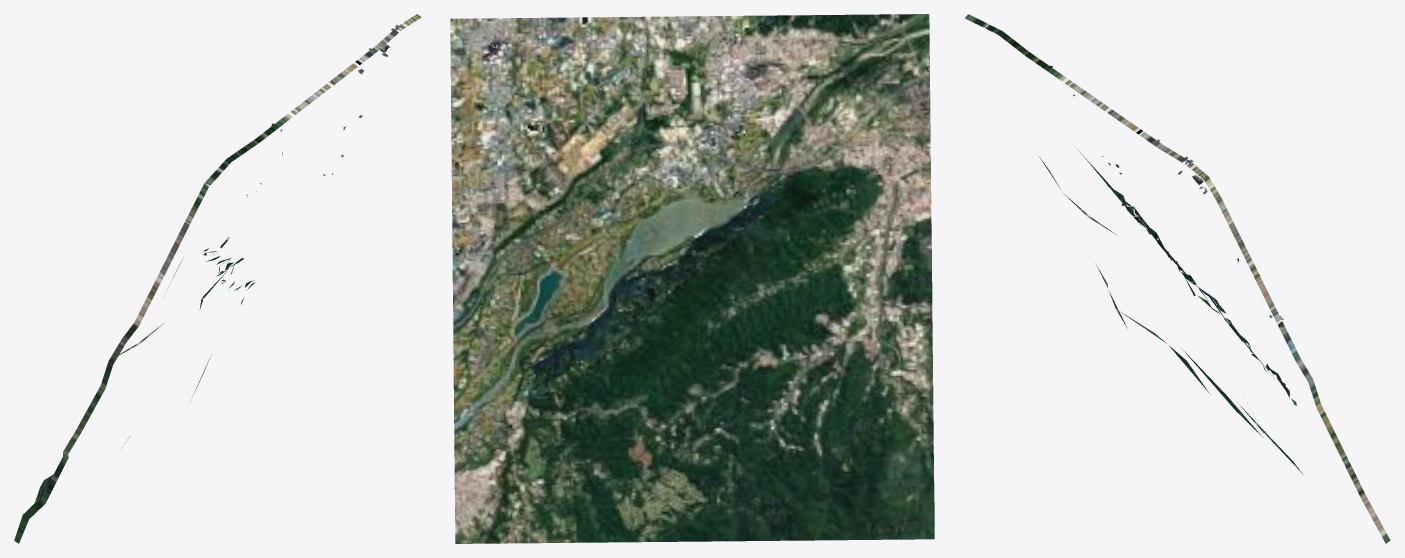
3 views of the same model, side by side, from view 1: azimuth 30°, elevation 25°; view 2: azimuth 150°, elevation 25°; view 3: azimuth 270°, elevation 25° (orthographic). The views are drawn at different scales.
Size of the model in its own units: 9861 by 8922 by 8331.
1 material, 1 textured.
